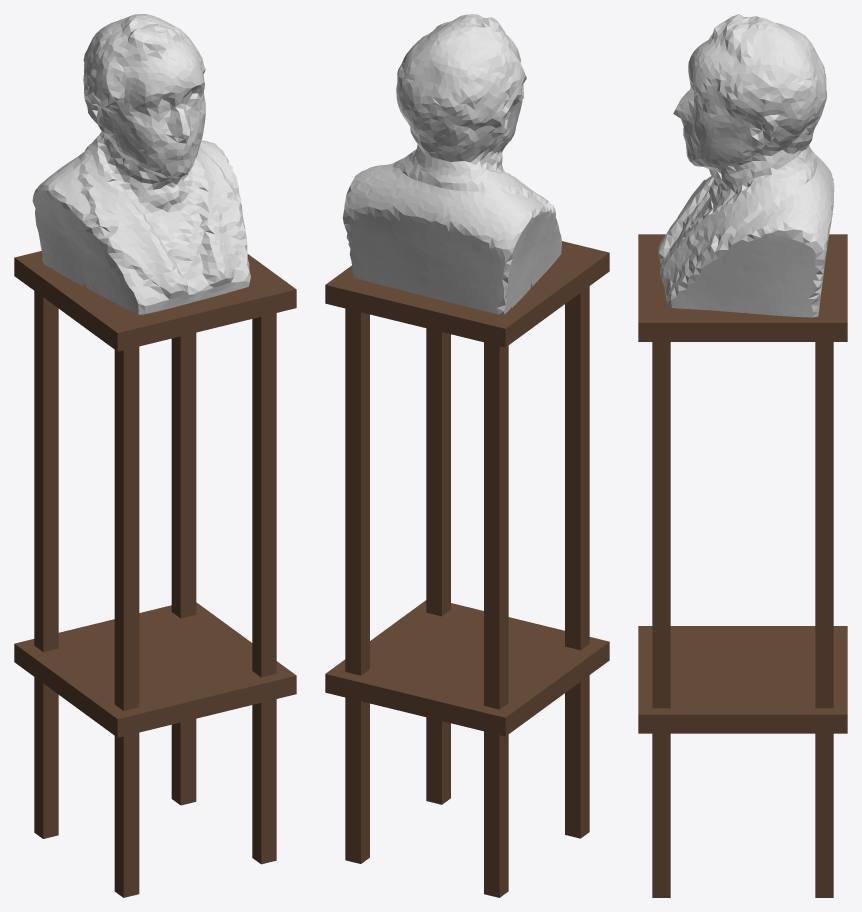
Rendered from Sculpture_2.fbx.
3 views of the same model, side by side, from view 1: azimuth 30°, elevation 25°; view 2: azimuth 150°, elevation 25°; view 3: azimuth 270°, elevation 25° (orthographic).
Parts seen in each view (by area): view 1: Photosculpture.001; view 2: Photosculpture.001; view 3: Photosculpture.001.
Boxes of the visible parts, x1,y1,x2,y2 form: Photosculpture.001: [14, 14, 296, 897]; Photosculpture.001: [325, 14, 609, 897]; Photosculpture.001: [638, 14, 847, 897].
Size of the model in its own units: 32.96 by 145 by 32.96.
